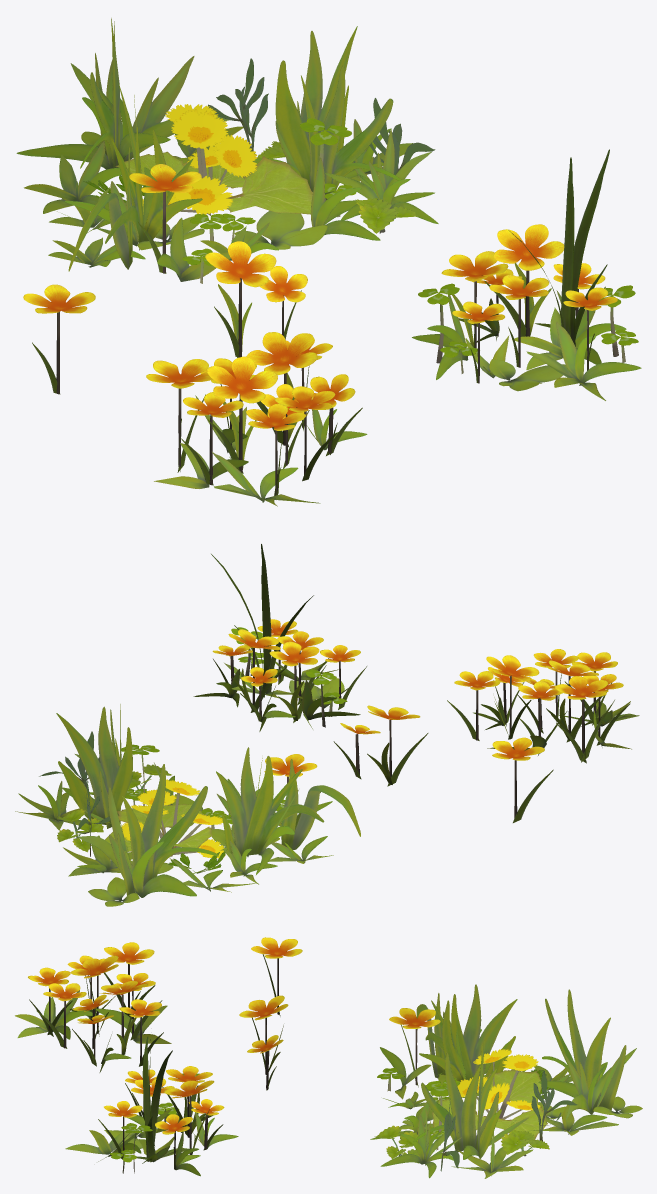
The model's file is stylized_flowers.fbx.
The picture shows the model from 3 angles, top to bottom: view 1: azimuth 30°, elevation 25°; view 2: azimuth 150°, elevation 25°; view 3: azimuth 270°, elevation 25°; orthographic projection. The views are drawn at different scales.
Parts seen in each view (by area): view 1: model_0.005, model_0.002, model_0.001, model_0.003, model_0.004; view 2: model_0.005, model_0.002, model_0.001, model_0.003, model_0.004; view 3: model_0.005, model_0.002, model_0.001, model_0.003, model_0.004.
Part boxes in pixels (x1,y1,x2,y2): model_0.005: [16, 18, 438, 283]; model_0.002: [412, 149, 641, 400]; model_0.001: [146, 332, 367, 506]; model_0.003: [205, 241, 307, 357]; model_0.004: [23, 284, 95, 394]; model_0.005: [15, 704, 360, 906]; model_0.002: [193, 544, 366, 731]; model_0.001: [447, 649, 639, 763]; model_0.003: [333, 705, 428, 786]; model_0.004: [492, 737, 553, 822]; model_0.005: [370, 984, 642, 1178]; model_0.002: [65, 1036, 238, 1176]; model_0.001: [15, 942, 171, 1072]; model_0.003: [239, 995, 288, 1090]; model_0.004: [251, 937, 302, 1016].
Size of the model in its own units: 104 by 38.91 by 144.
